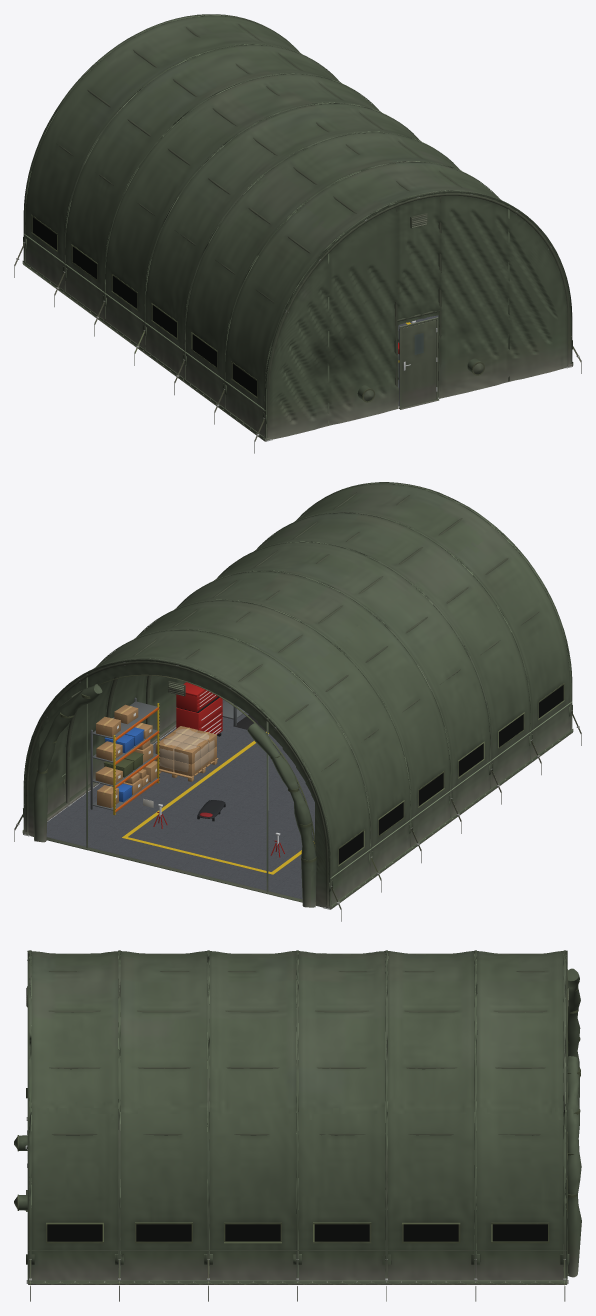
The model's file is mex-26-deployed-fitted.glb.
3 views of the same model, one above another, from view 1: azimuth 30°, elevation 25°; view 2: azimuth 150°, elevation 25°; view 3: azimuth 270°, elevation 25° (orthographic). The views are drawn at different scales.
Parts seen in each view (by area): view 1: MEX26_shelter, MEX26_frame; view 2: MEX26_shelter, MEX26_fitout, MEX26_frame; view 3: MEX26_shelter, MEX26_frame.
Part boxes in pixels (box(x1,y1,x2,y2)): MEX26_shelter: box(14, 14, 581, 453); MEX26_frame: box(56, 24, 572, 441); MEX26_shelter: box(14, 482, 581, 921); MEX26_fitout: box(46, 682, 314, 899); MEX26_frame: box(23, 492, 539, 909); MEX26_shelter: box(14, 950, 581, 1301); MEX26_frame: box(26, 953, 568, 1283).
Size of the model in its own units: 8.66 by 5.53 by 11.67.
49 materials, 16 textured.
